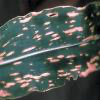Corn leaf blight: (0, 5, 99, 97)
